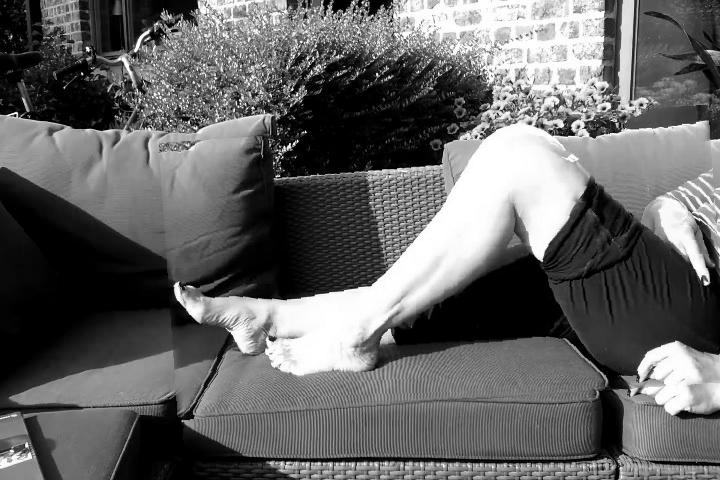lower_body: (163, 115, 720, 412)
